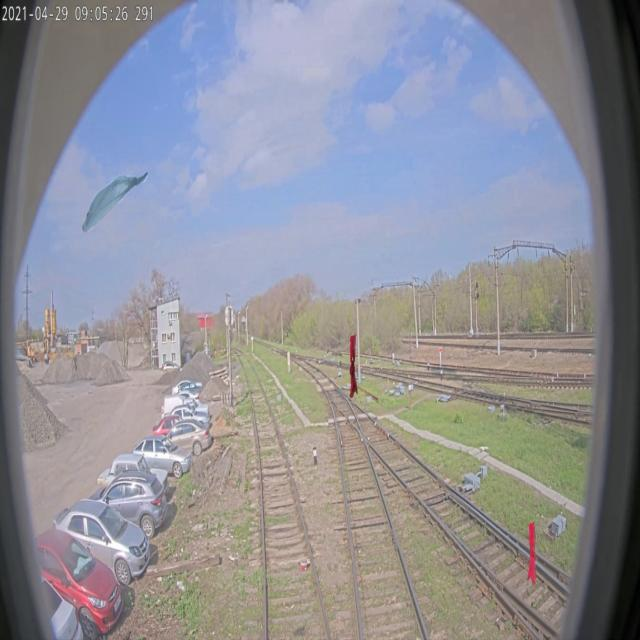floating object: (81, 170, 148, 233), (527, 522, 537, 586), (349, 333, 358, 398)
